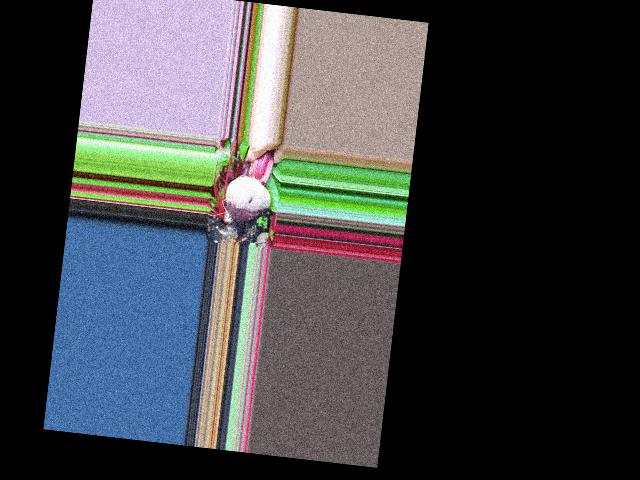beet: (219, 144, 276, 248)
